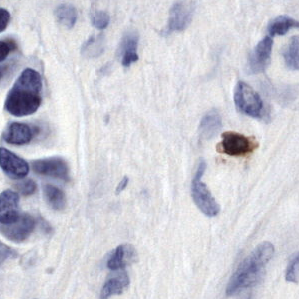Lymphocyte: (219, 130, 253, 157)
